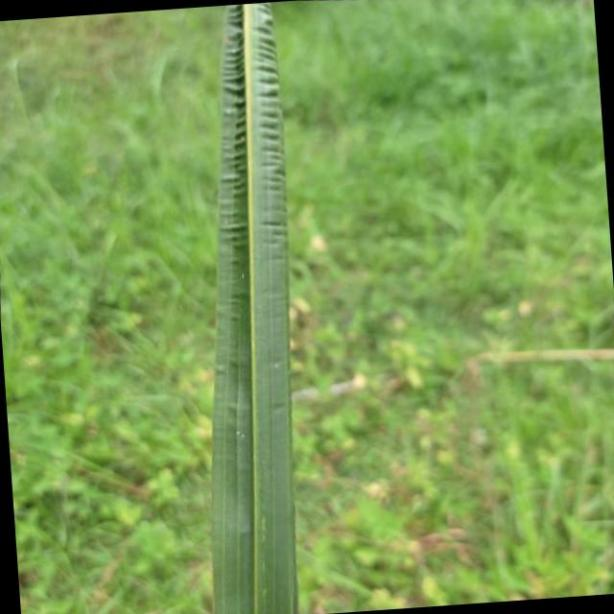Boron: (207, 3, 301, 614)
